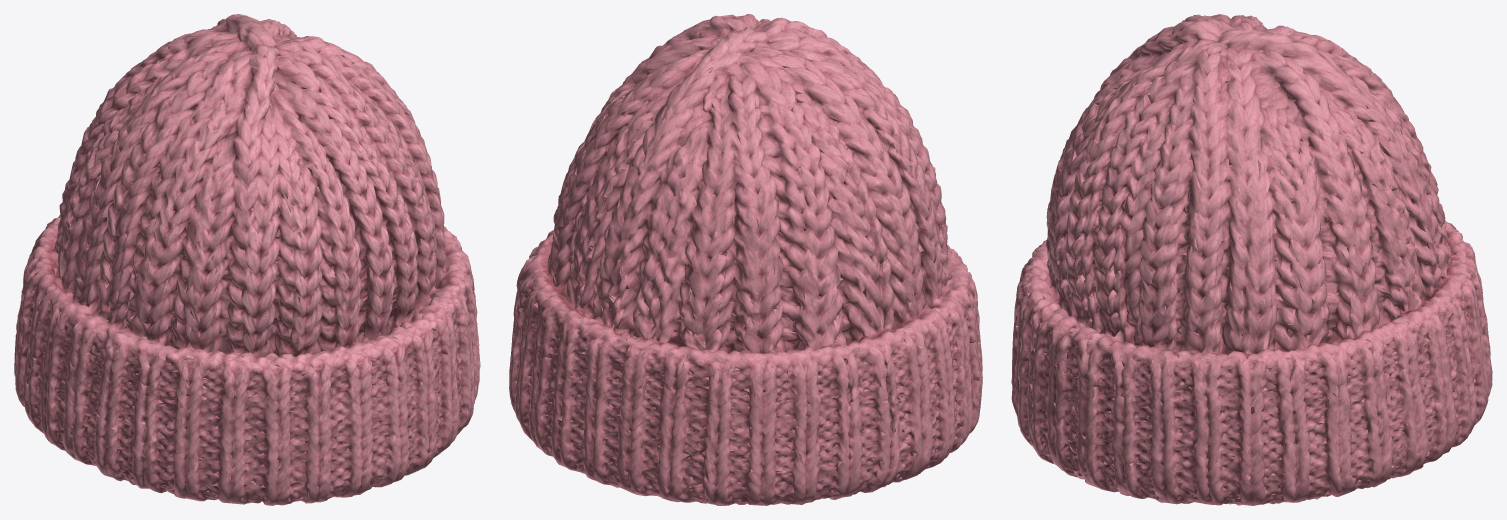
File: beanie.glb
3 views of the same model, side by side, from view 1: azimuth 30°, elevation 25°; view 2: azimuth 150°, elevation 25°; view 3: azimuth 270°, elevation 25° (orthographic). The views are drawn at different scales.
Visible parts, largest first — view 1: Mesh_0; view 2: Mesh_0; view 3: Mesh_0.
Boxes of the visible parts, left/top/right/bottom form: Mesh_0: left=14, top=14, right=480, bottom=505; Mesh_0: left=509, top=14, right=982, bottom=505; Mesh_0: left=1011, top=14, right=1492, bottom=505.
Size of the model in its own units: 0.2385 by 0.22 by 0.2386.
Materials: 1 (1 with a texture image).
